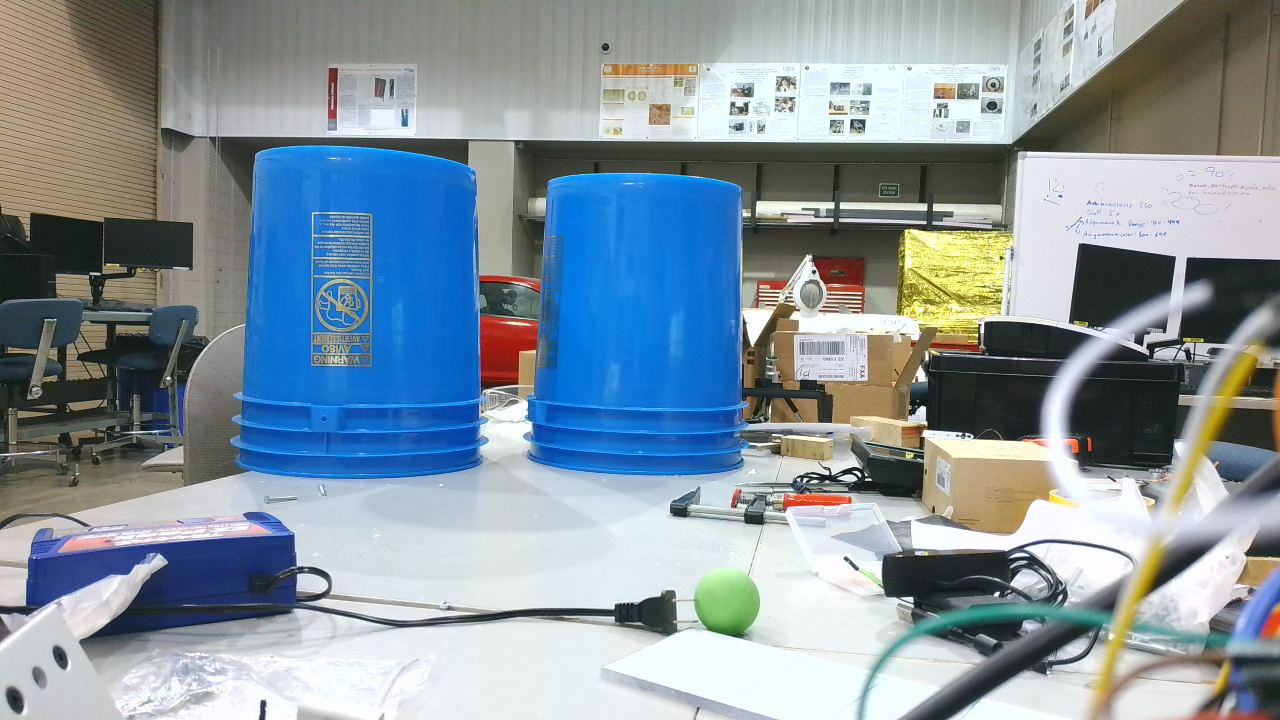blue_bucket: (232, 146, 494, 488), (527, 173, 759, 485)
